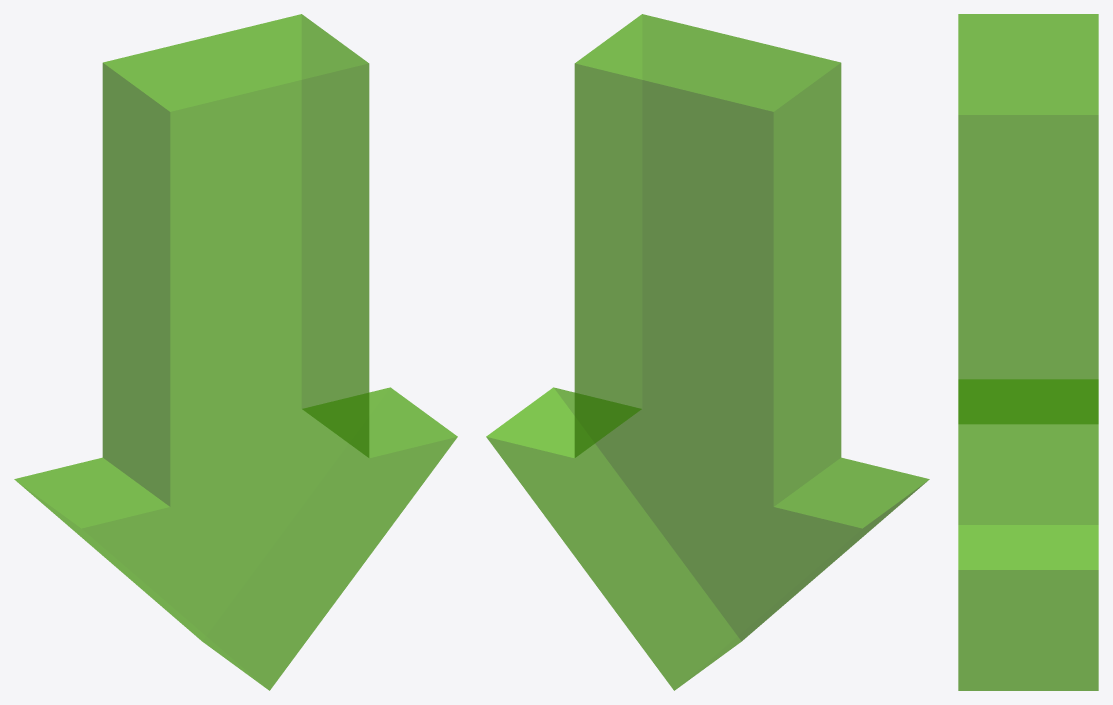
Rendered from Arrow1.fbx.
3 renders of one model, left to right at view 1: azimuth 30°, elevation 25°; view 2: azimuth 150°, elevation 25°; view 3: azimuth 270°, elevation 25°, orthographic. The views are drawn at different scales.
Parts seen in each view (by area): view 1: Cube; view 2: Cube; view 3: Cube.
Boxes of the visible parts, bbox=[...] form: Cube: bbox=[14, 14, 457, 690]; Cube: bbox=[486, 14, 929, 690]; Cube: bbox=[958, 14, 1098, 690].
Bounding box in the file's own units: 2 × 3.06 × 0.6207.
